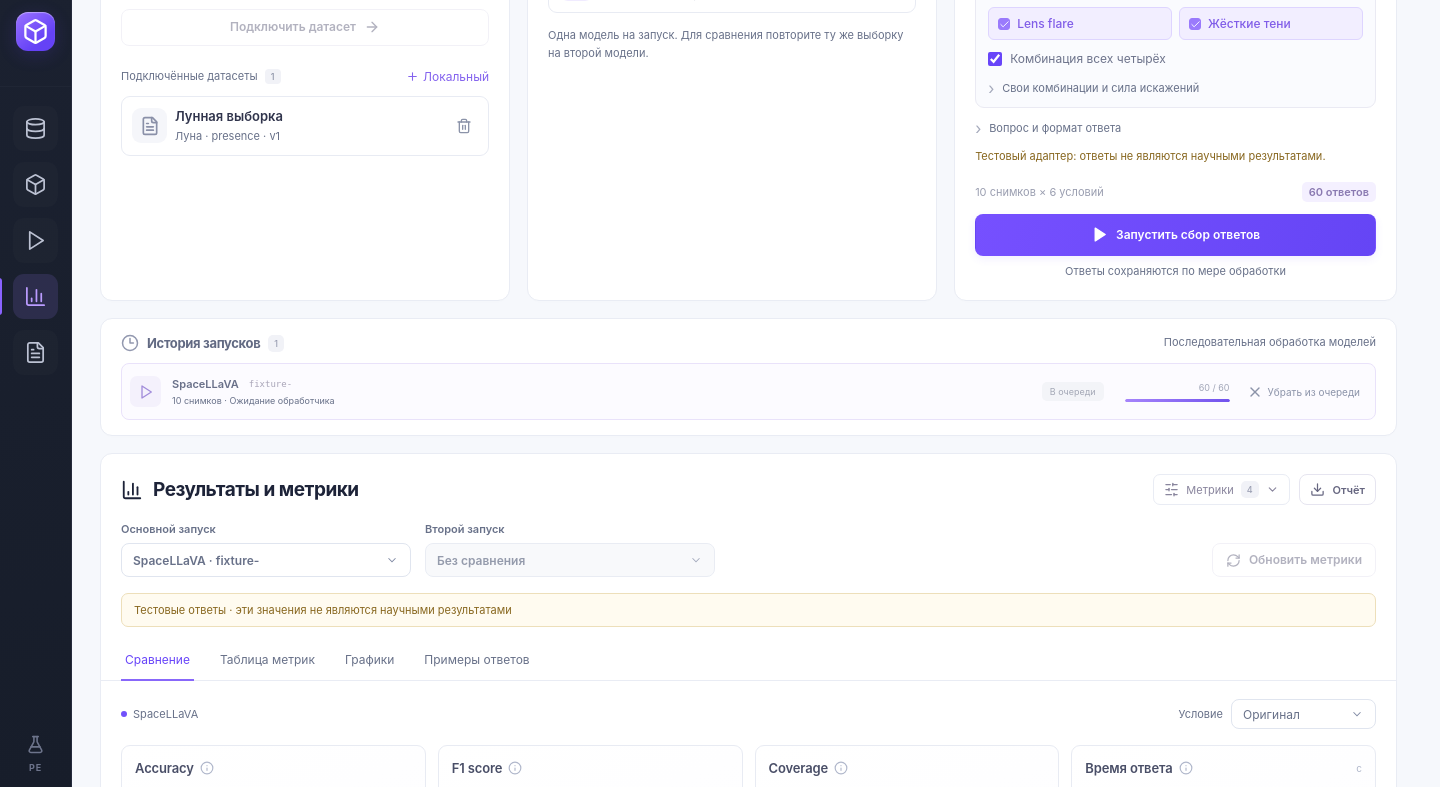
Scenario: evaluation workspace › shows cancellation rejection without inventing a cancelled state
The width and height of the screenshot is (1440, 787).
(page scrolled)
Click the button with aria-label "Убрать из очереди запуск fixture-". click: (1303, 392)
box: top-left (1240, 377), bottom-right (1367, 406)
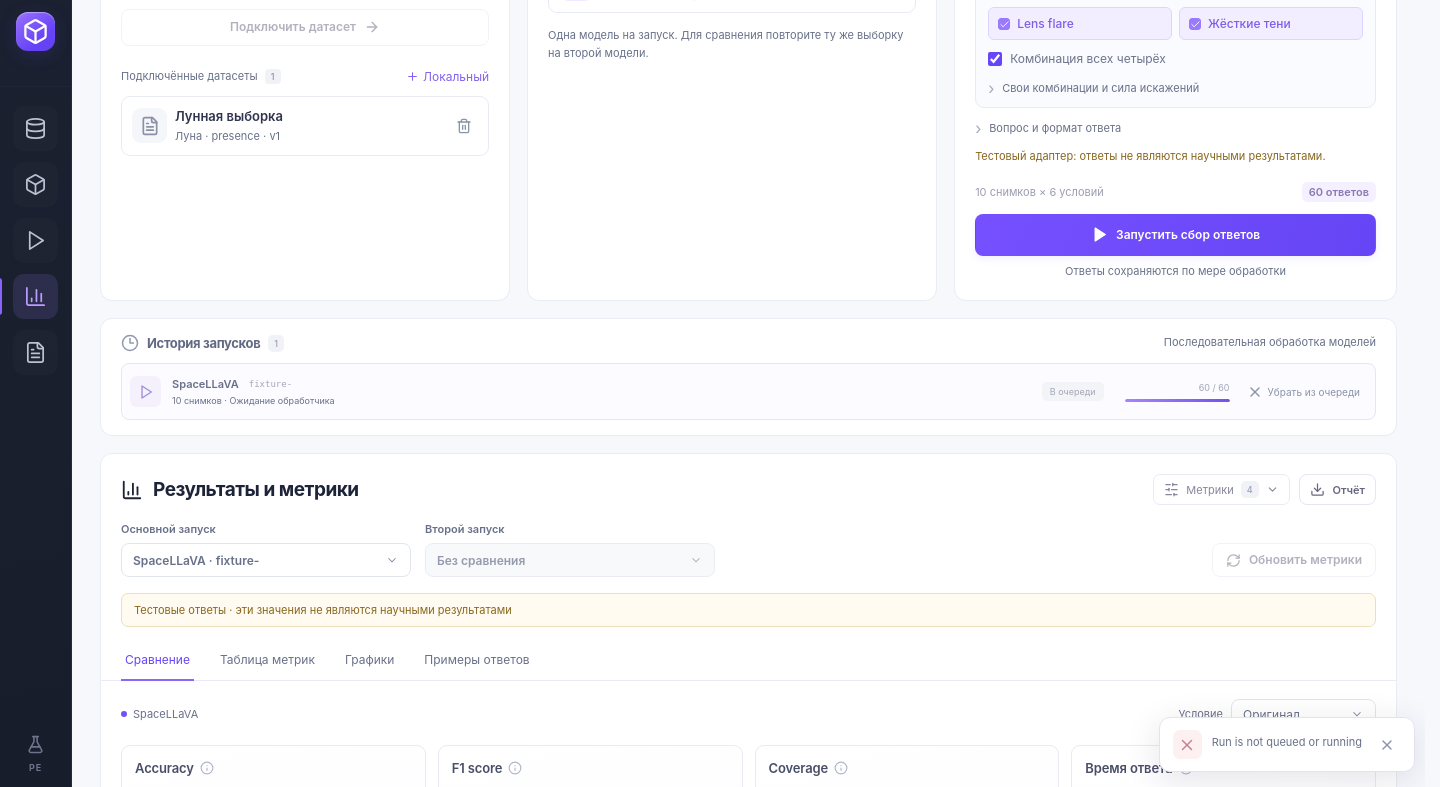
Expected: the text "Run is not queued or running" is shown, top-left (1212, 730), bottom-right (1362, 753)
